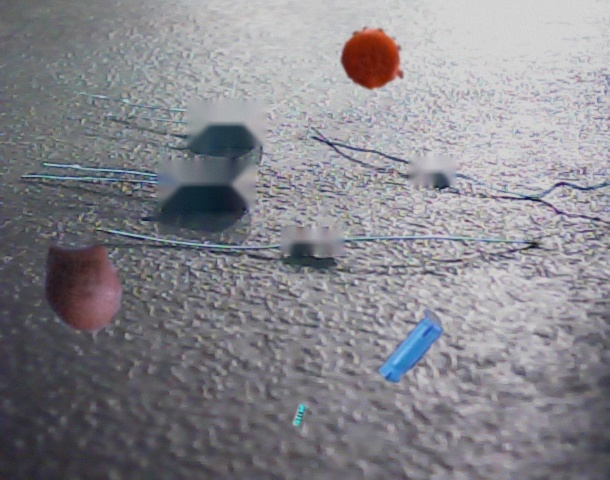capacitor: (43, 244, 123, 333), (378, 309, 443, 383), (341, 27, 404, 90)
resistor: (292, 404, 307, 427)
